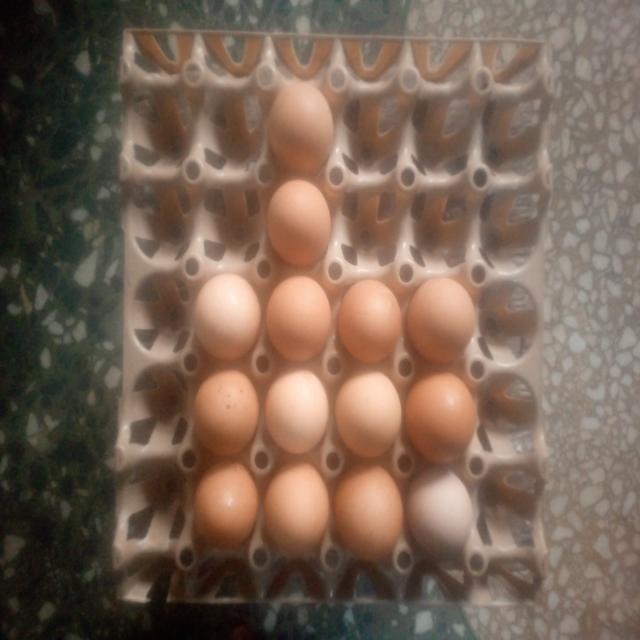Eggs: (262, 176, 338, 268), (268, 74, 336, 171), (187, 275, 260, 364), (336, 468, 405, 558), (409, 373, 478, 462), (410, 469, 476, 561), (340, 275, 404, 369), (336, 375, 405, 461), (267, 276, 332, 365), (409, 276, 477, 361), (265, 468, 333, 551), (193, 373, 258, 458), (194, 468, 259, 551), (266, 374, 330, 456)
